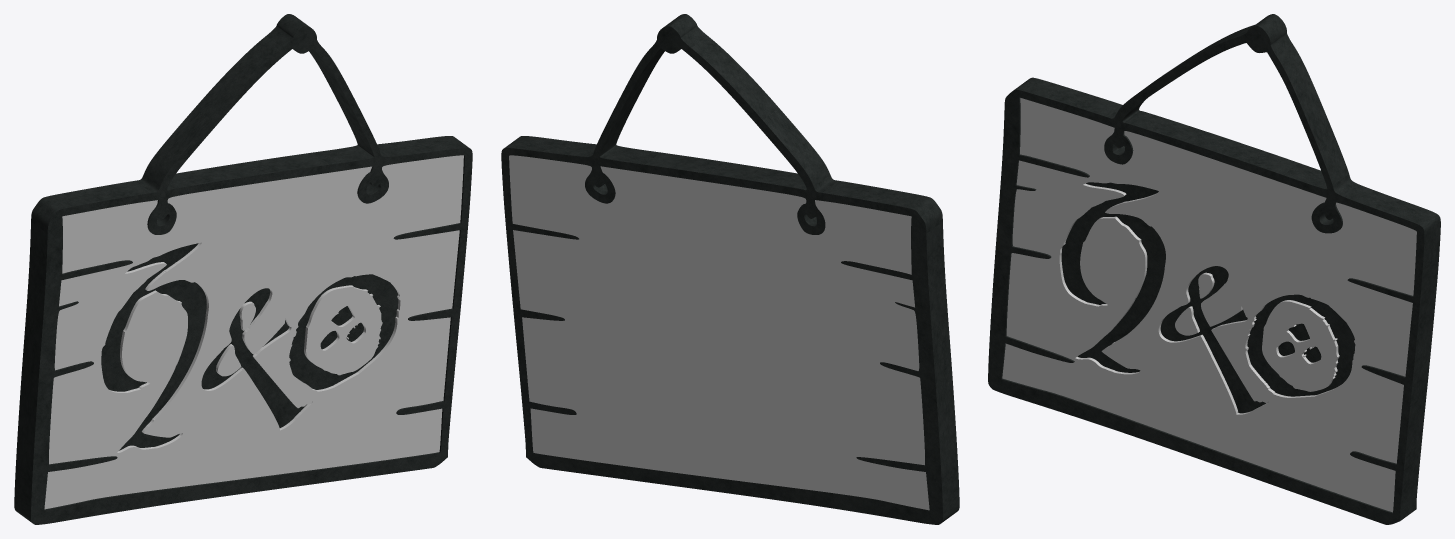
The model's file is cedule.gltf.
The picture shows the model from 3 angles, left to right: view 1: azimuth 30°, elevation 25°; view 2: azimuth 150°, elevation 25°; view 3: azimuth 330°, elevation 25°; orthographic projection.
Parts seen in each view (by area): view 1: Cedule_H&O_dvere v6_Body1_Cedule.001, Cedule_H&O_dvere v6_Body8_Cedule.001, Cedule_H&O_dvere v6_Body2_Cedule.001; view 2: Cedule_H&O_dvere v6_Body1_Cedule.001, Cedule_H&O_dvere v6_Body8_Cedule.001; view 3: Cedule_H&O_dvere v6_Body1_Cedule.001, Cedule_H&O_dvere v6_Body8_Cedule.001, Cedule_H&O_dvere v6_Body2_Cedule.001.
Part boxes in pixels (x1,y1,x2,y2): Cedule_H&O_dvere v6_Body1_Cedule.001: (44,155,463,509); Cedule_H&O_dvere v6_Body8_Cedule.001: (14,14,472,524); Cedule_H&O_dvere v6_Body2_Cedule.001: (101,243,398,450); Cedule_H&O_dvere v6_Body1_Cedule.001: (509,155,929,510); Cedule_H&O_dvere v6_Body8_Cedule.001: (501,14,959,524); Cedule_H&O_dvere v6_Body1_Cedule.001: (1002,98,1416,512); Cedule_H&O_dvere v6_Body8_Cedule.001: (988,14,1440,524); Cedule_H&O_dvere v6_Body2_Cedule.001: (1061,182,1355,413).
Size of the model in its own units: 2.46 by 2.51 by 0.16.
